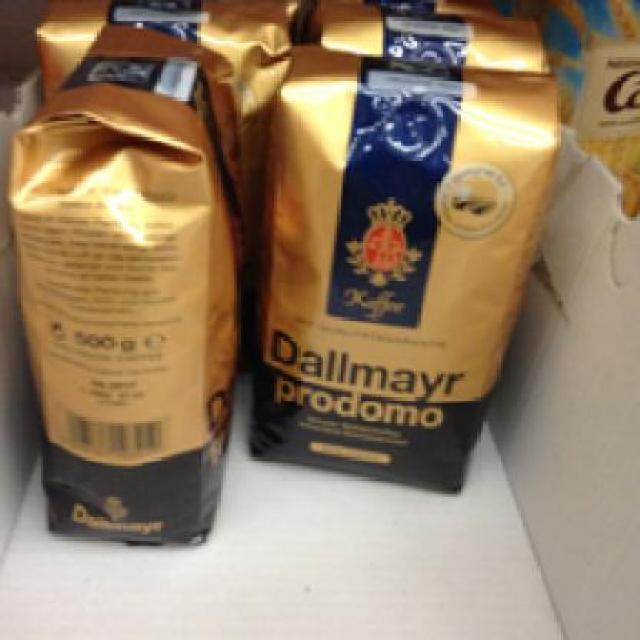Coffee: (246, 42, 560, 495), (8, 26, 235, 543)
